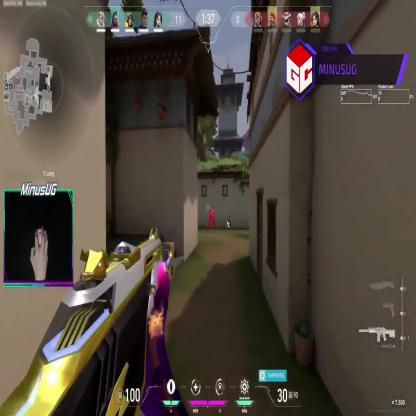enemy: (206, 207, 215, 232)
enemy_head: (210, 208, 214, 213)
